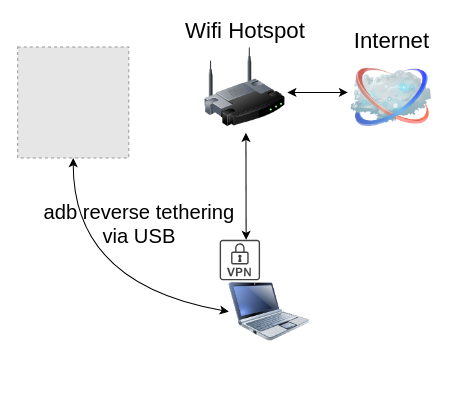
The diagram is 449 pixels wide and 402 high, and some of its shapes have lost their labels. Grey dashed boxes stand in for pictures. Each missing label, with the centre of its shape:
"Corporate VPN" goes at (239,259).
"Laptop" goes at (268,311).
